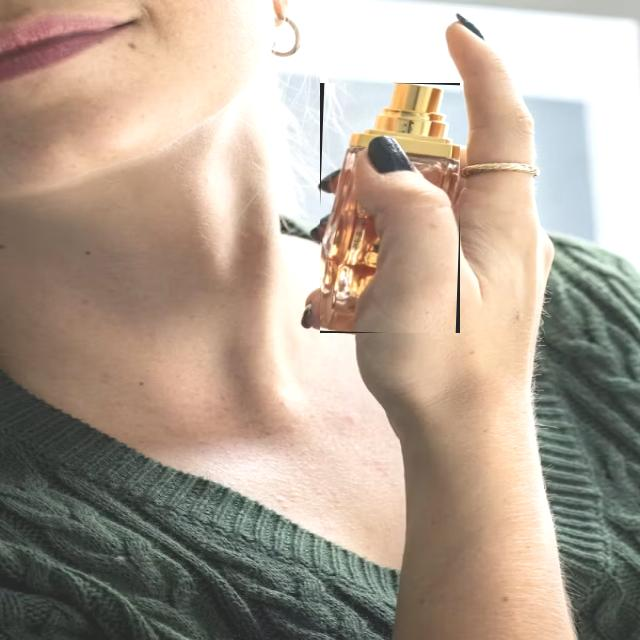Bottle: (320, 83, 459, 333)
